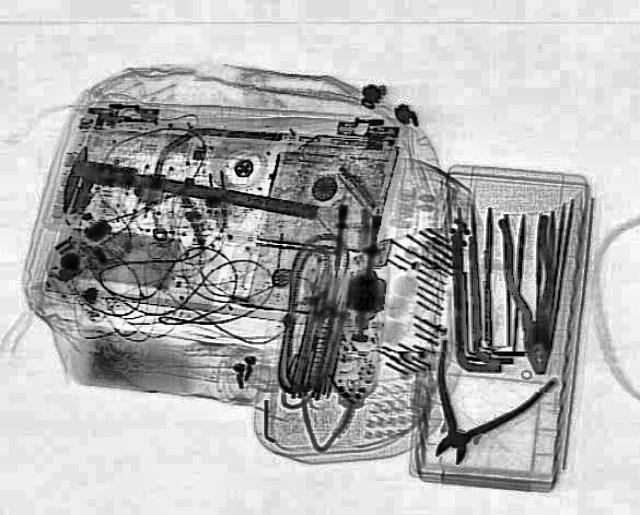Pliers: (388, 338, 558, 476), (492, 214, 568, 374)
